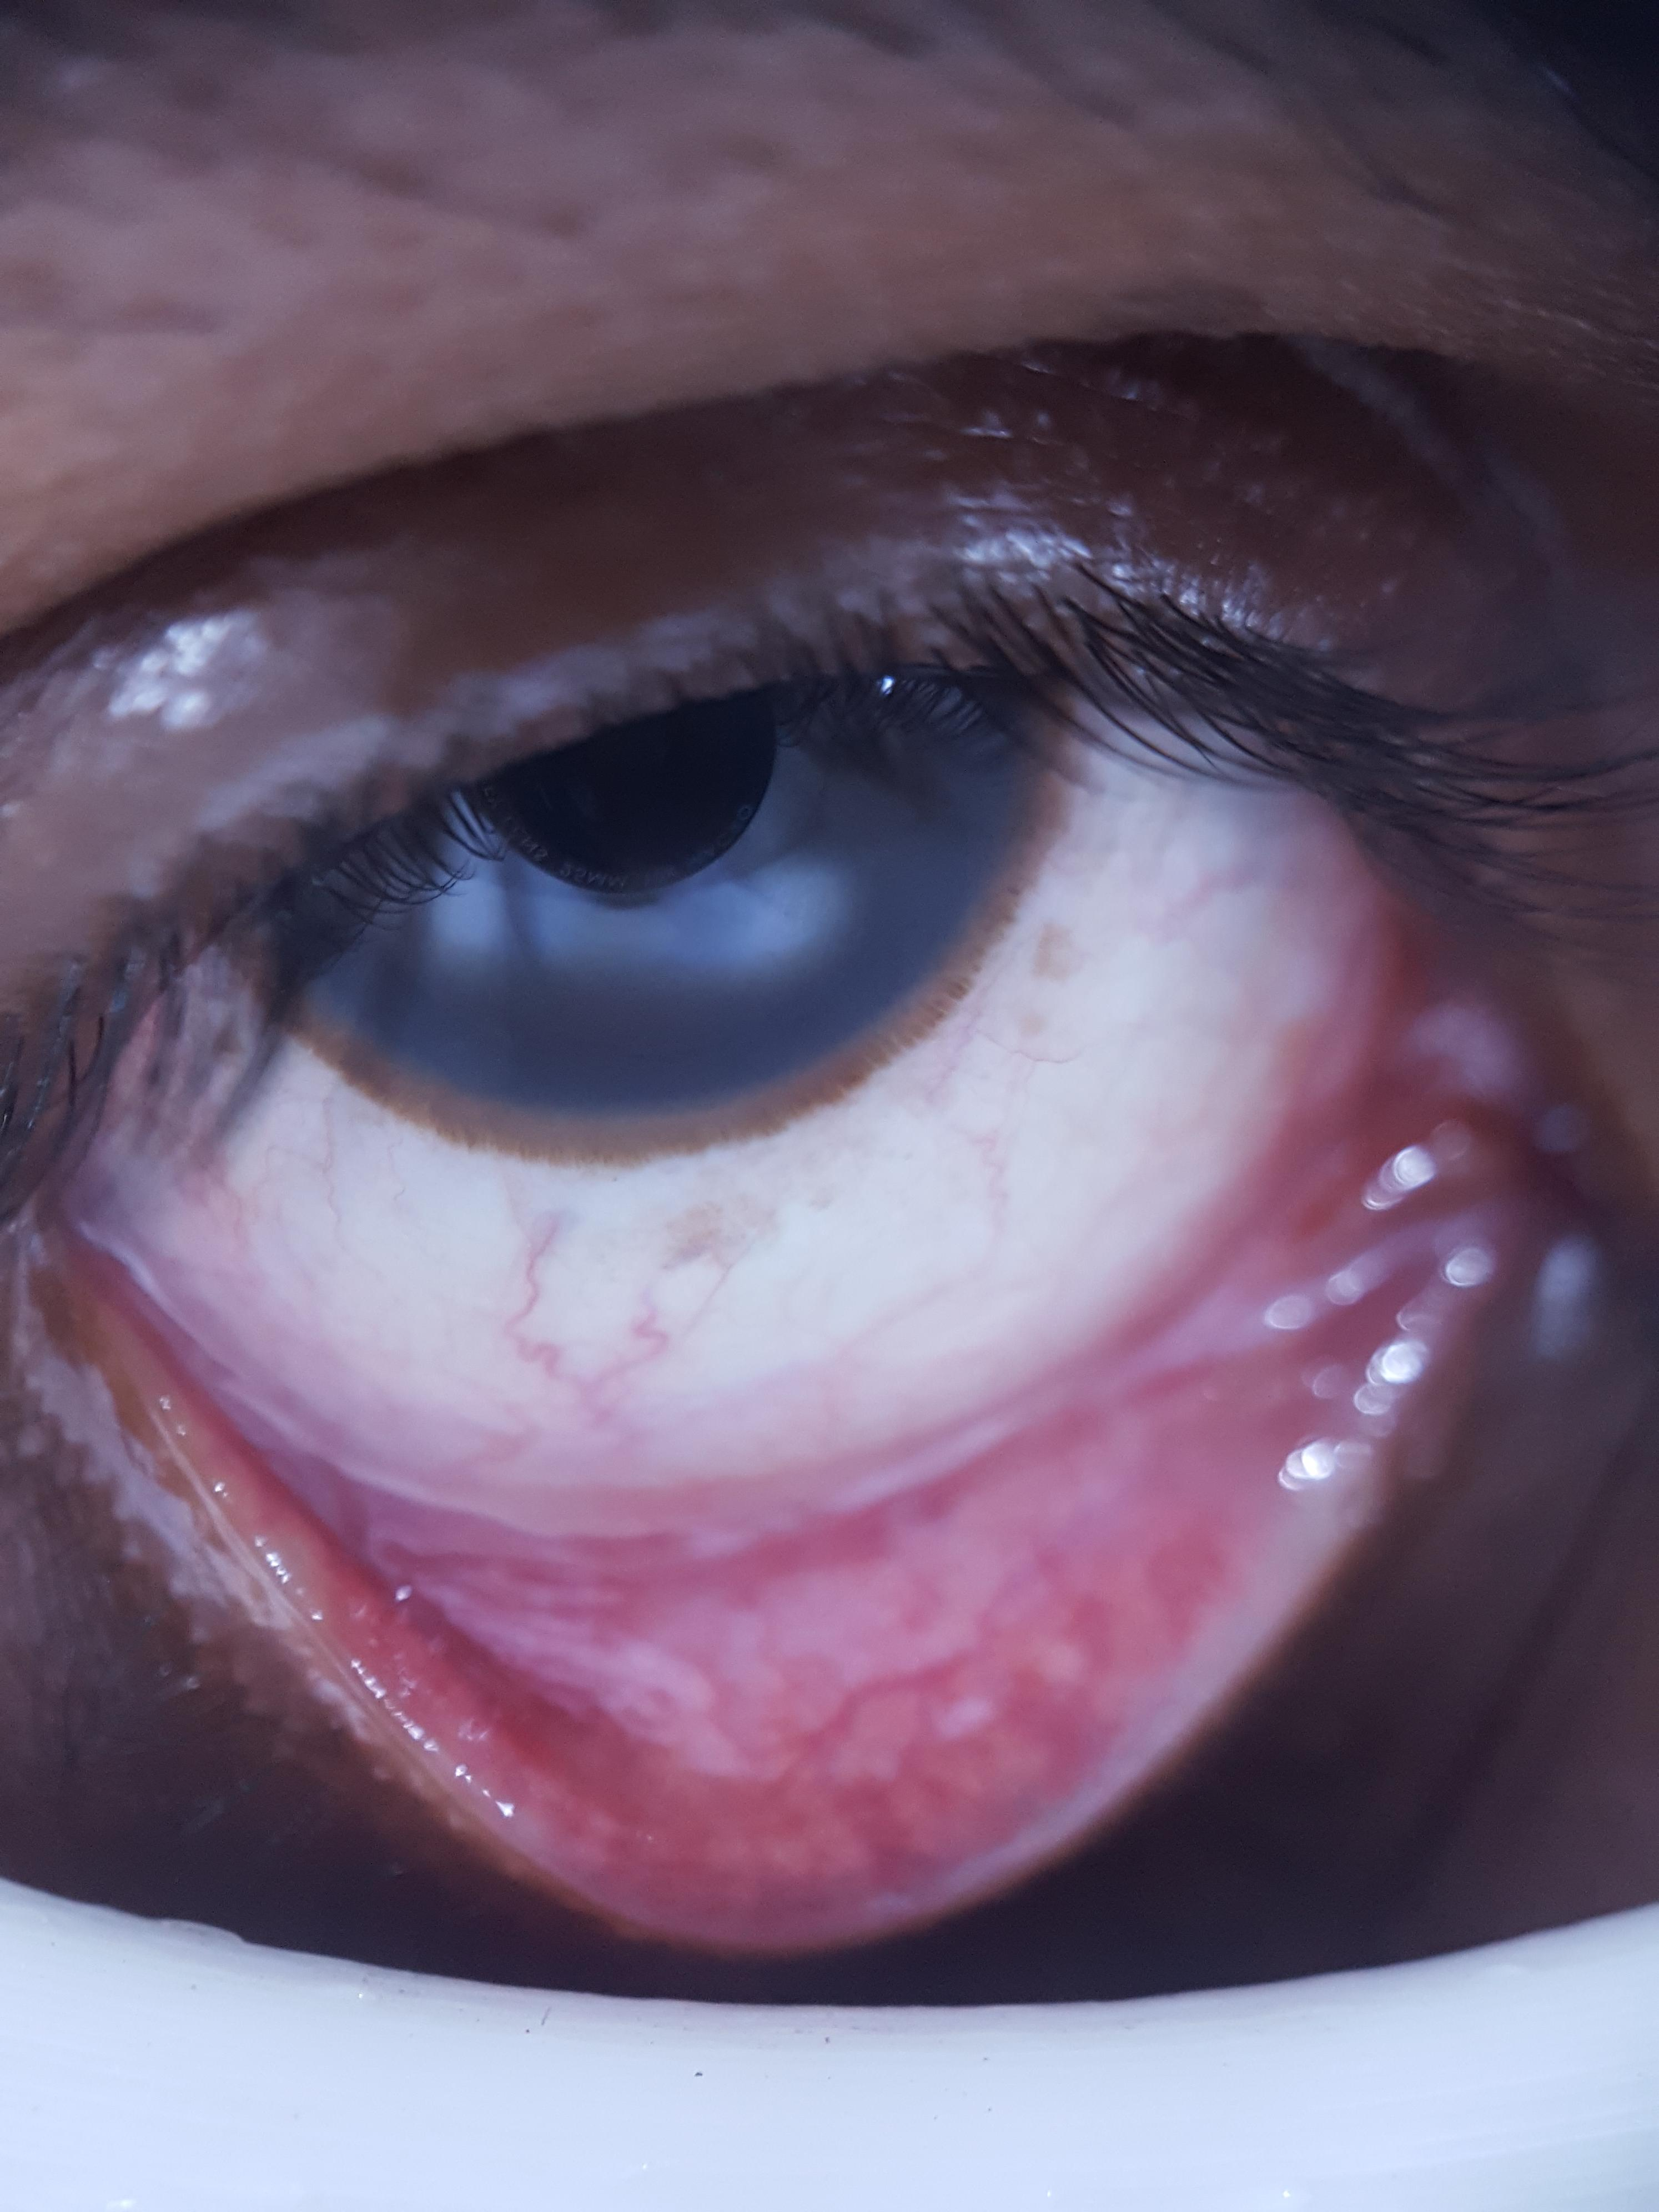forniceal: (96, 1258, 1298, 1780)
forniceal_palpebral: (92, 1251, 1380, 1912)
palpebral: (98, 1266, 1370, 1904)
